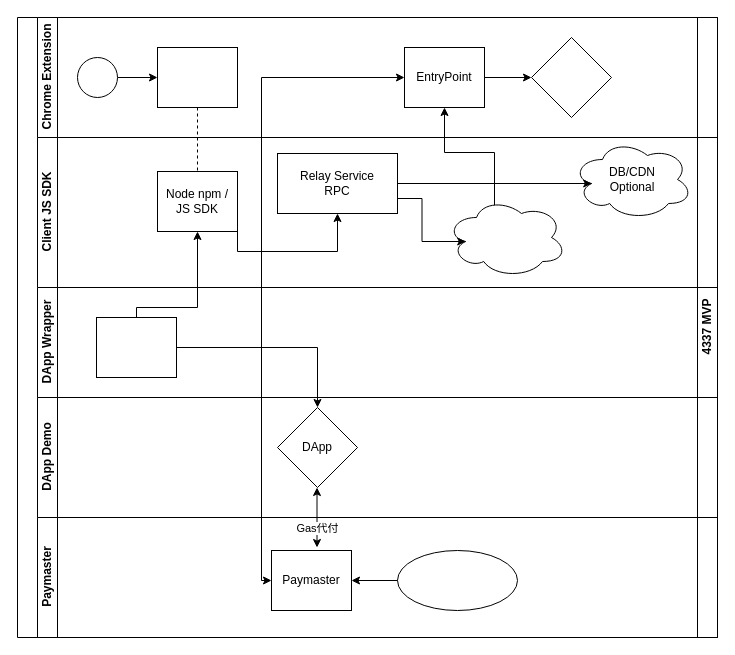
Image size: 735x655. Some labels were removed from this diagram. Here are the shapes that lost their labels. From the top down, the centre of each, then its label:
At (x=97, y=77): "User".
At (x=197, y=77): "User Interface (Chrome plugin)".
At (x=571, y=77): "OnChain".
At (x=506, y=237): "4337 Wallet onchain".
At (x=136, y=347): "Wrapper SDK (DApp side)".
At (x=457, y=580): "外部服务接入".
